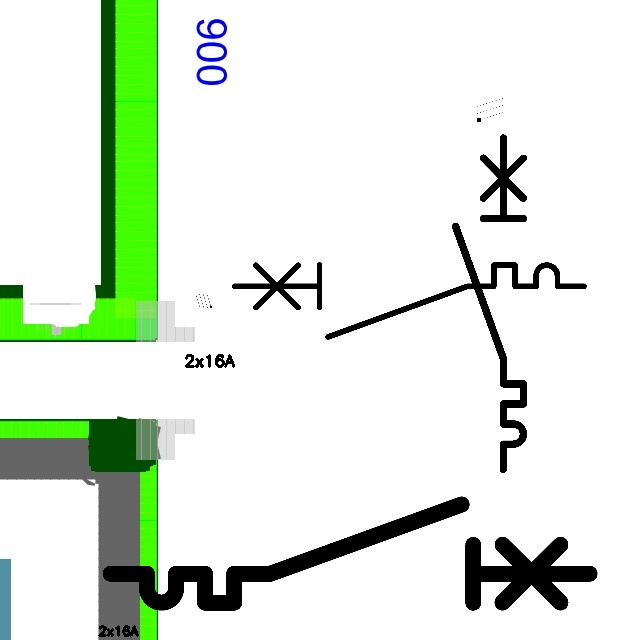interruptor_termomagnetico: (98, 492, 602, 615), (225, 256, 593, 346), (447, 129, 532, 477)
